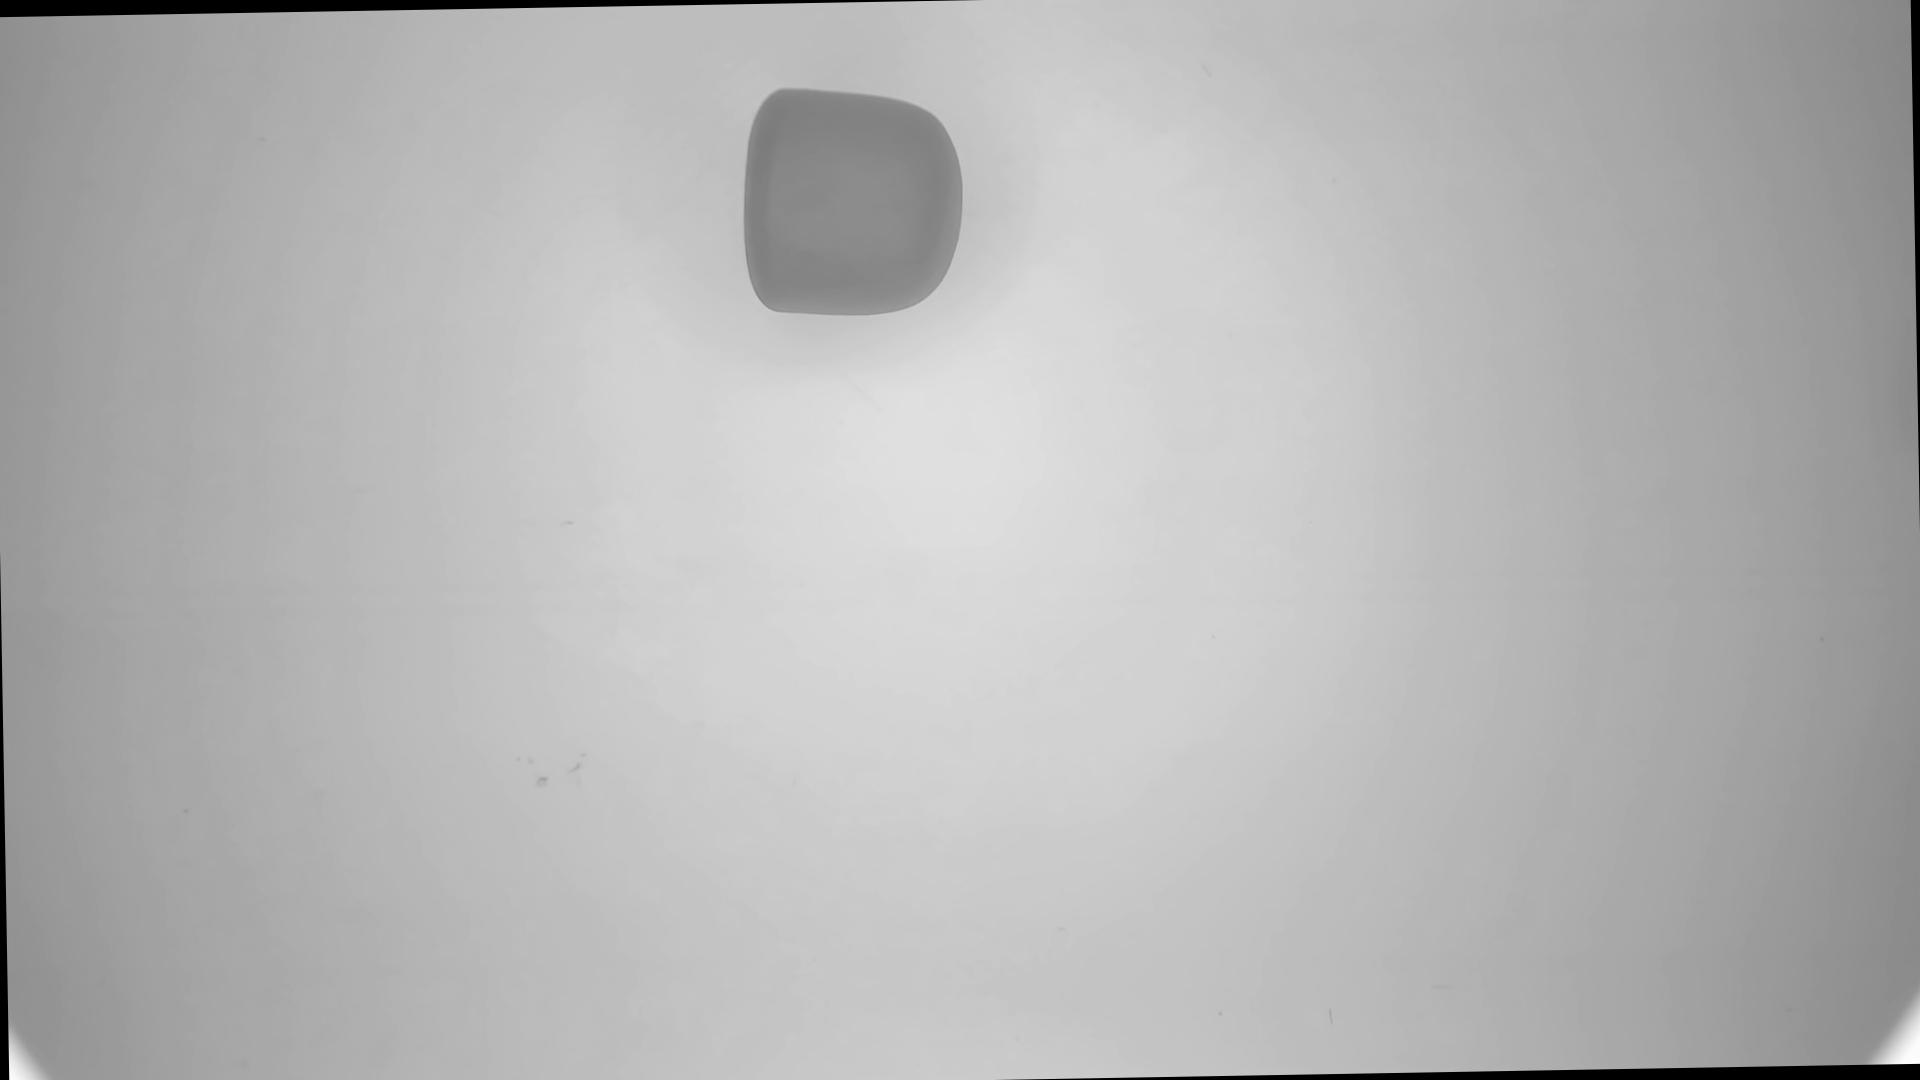normal: (745, 80, 965, 319)
